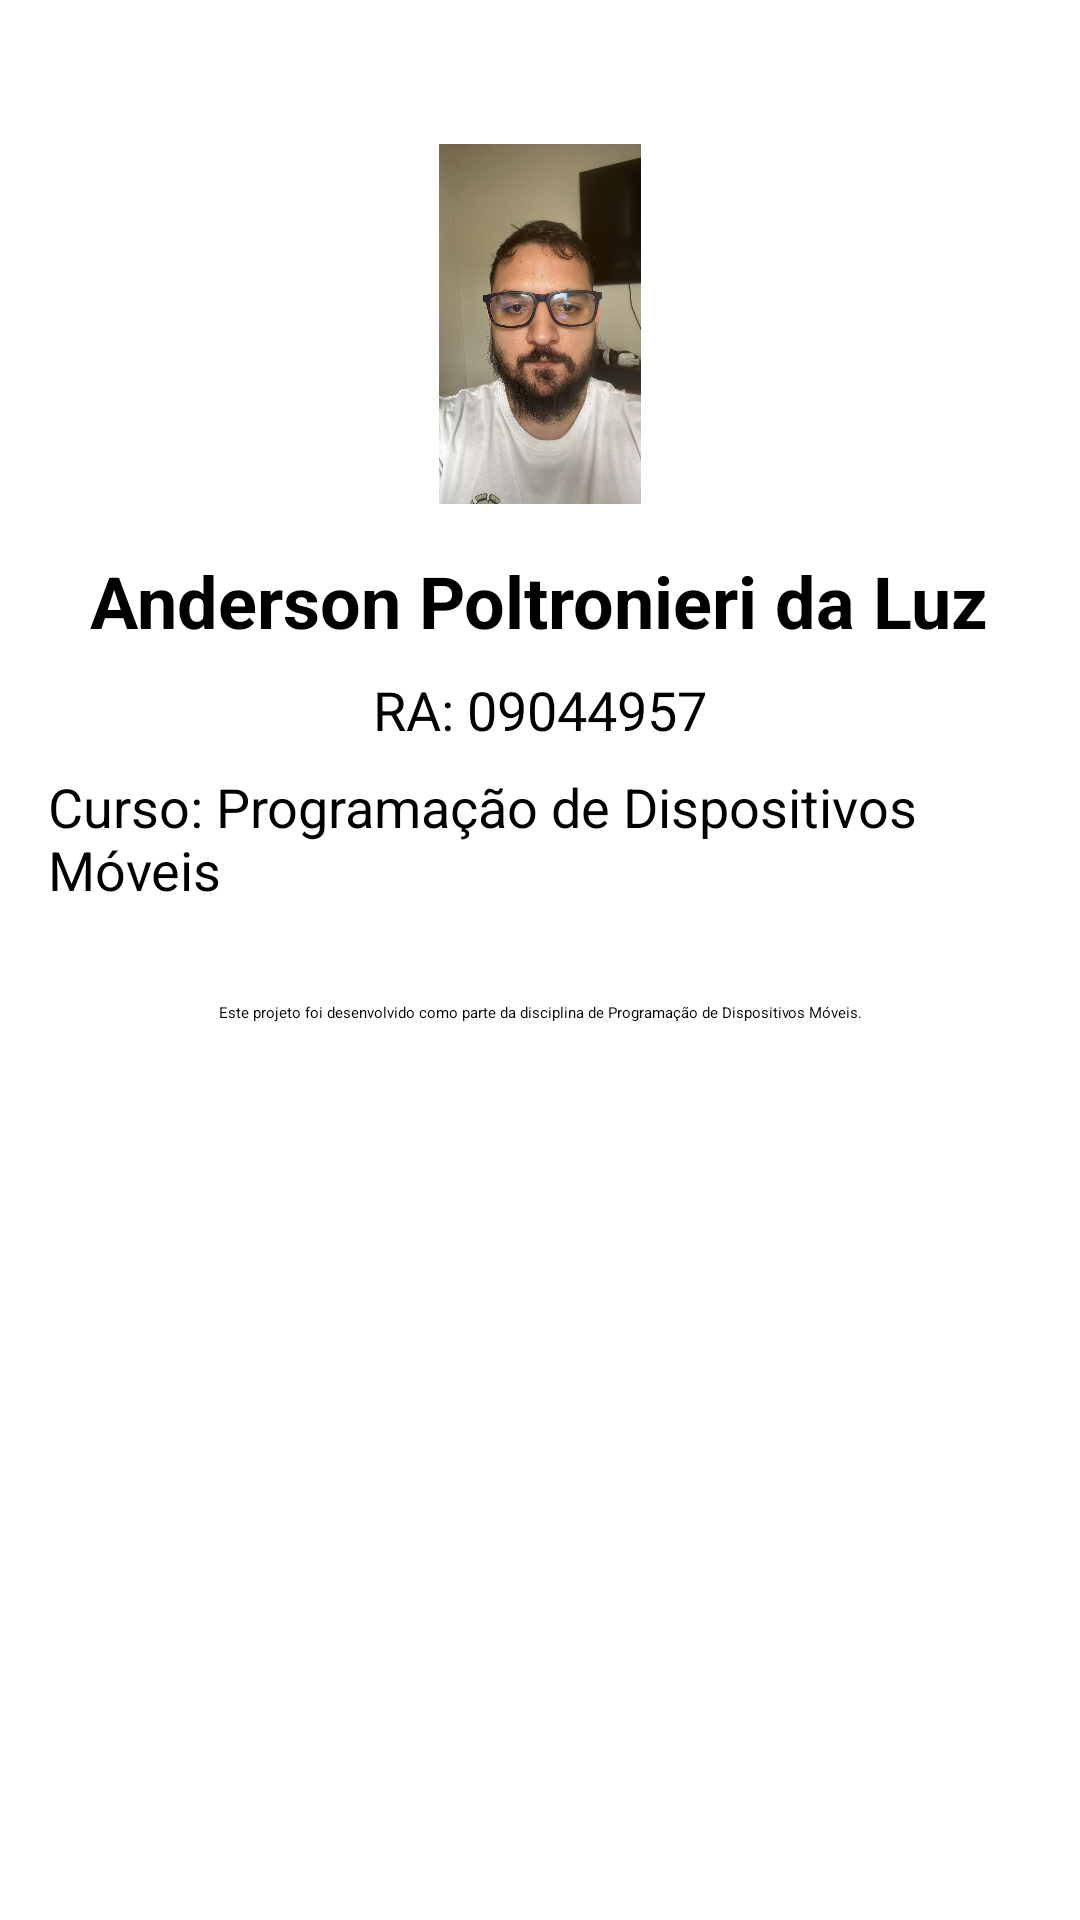

Icons on this 1080×1920 Android screen, each with its box as (x1,y1,x2,y2):
Foto de perfil do aluno: (439,144,641,504)
